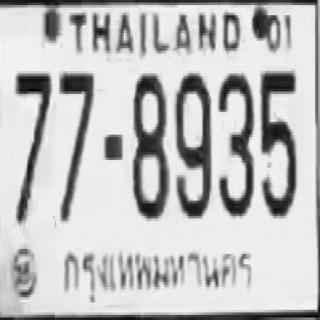N03: (216, 72, 253, 215)
N05: (259, 69, 296, 216)
N07: (15, 70, 50, 220), (58, 71, 93, 218), (15, 71, 50, 180)
N08: (132, 71, 167, 216)
N09: (174, 71, 211, 216)
P04: (60, 237, 266, 311)
